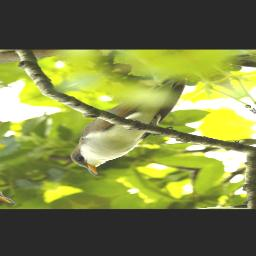Cuckoo: (20, 70, 256, 179)
